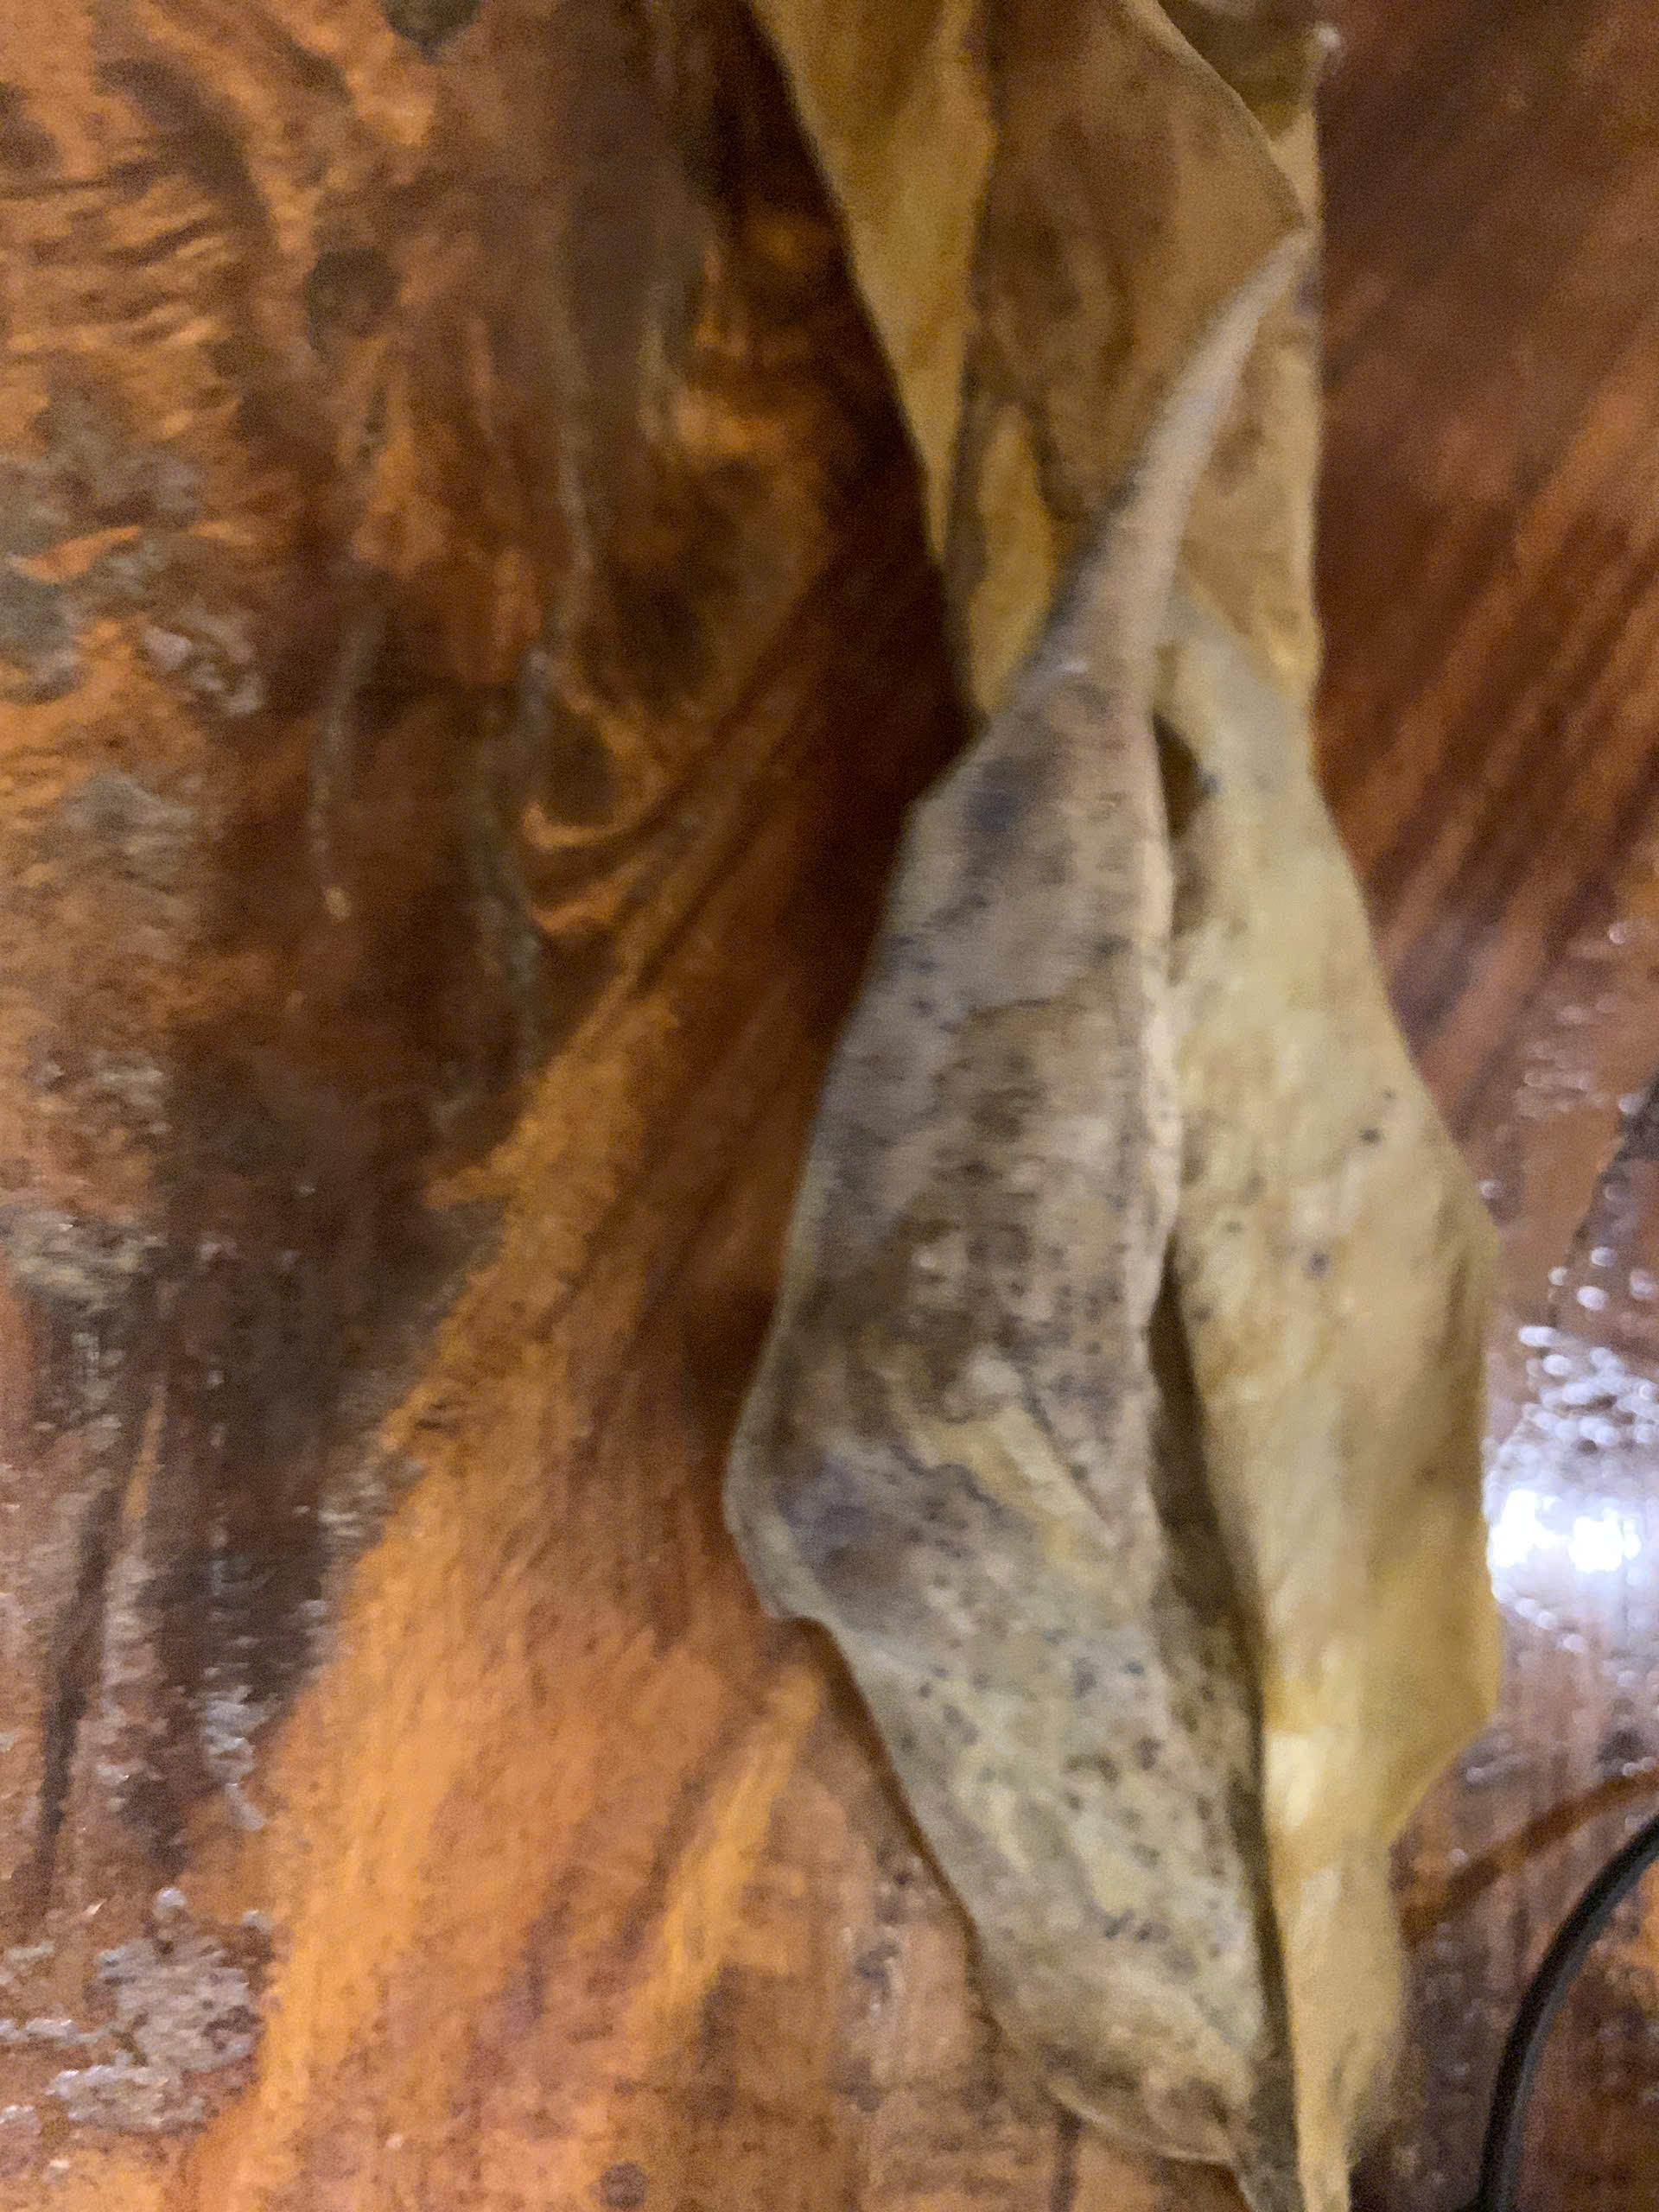Huu co: (777, 49, 1490, 2212)
